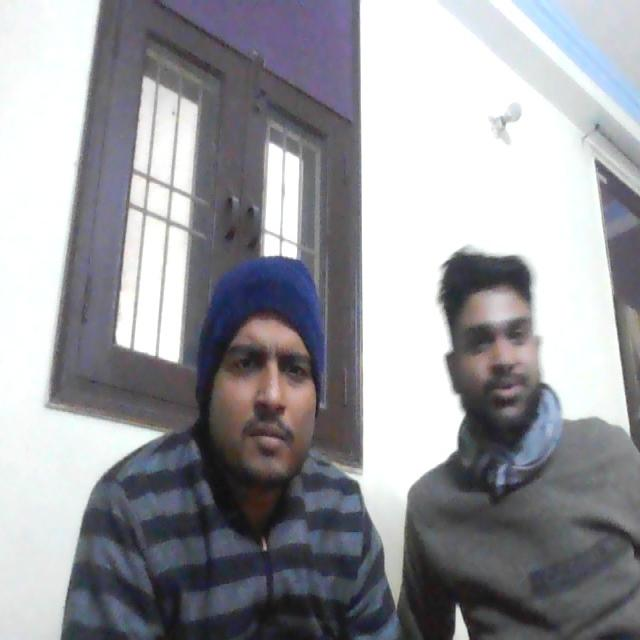real: (199, 258, 328, 502), (445, 238, 547, 431)
